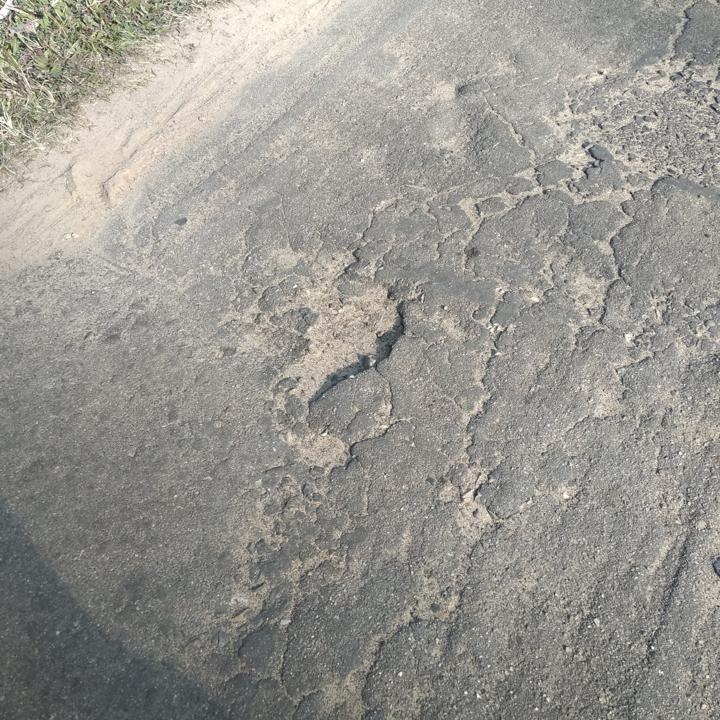pothole: (277, 280, 413, 403), (287, 425, 356, 471)
